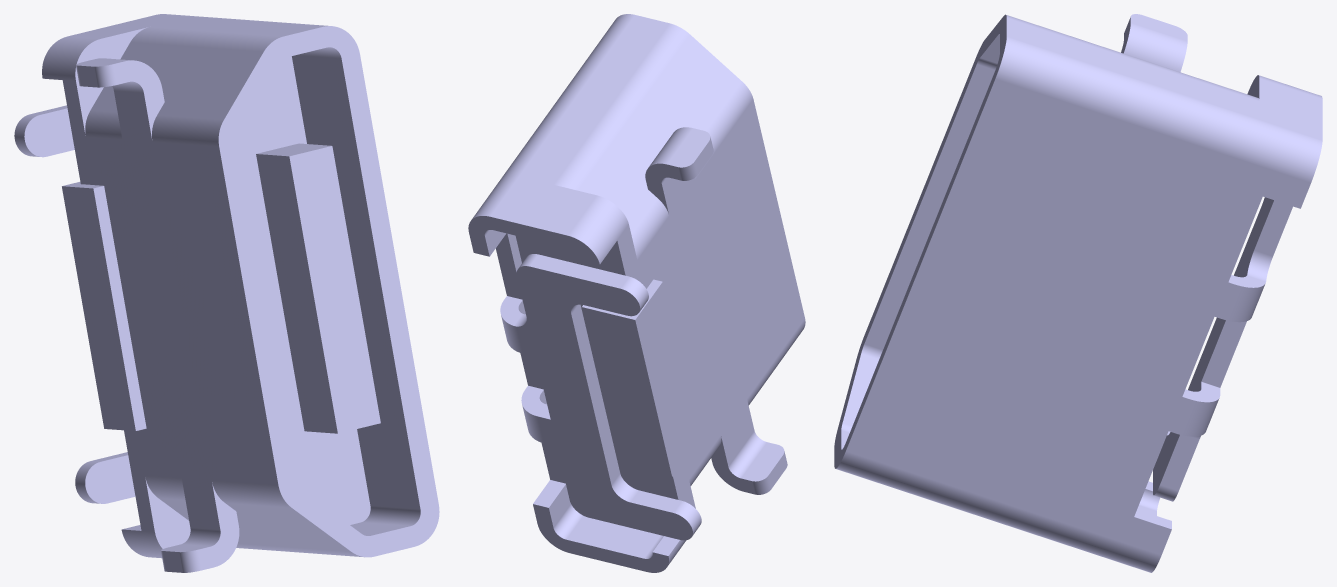
File: EBoxNewAsm_stp_1_IMC413_1_stp_1_IMC413_1_36_stp_1_solid1.obj
The picture shows the model from 3 angles, left to right: view 1: azimuth 30°, elevation 25°; view 2: azimuth 150°, elevation 25°; view 3: azimuth 270°, elevation 25°; orthographic projection. The views are drawn at different scales.
Parts seen in each view (by area): view 1: mesh7716, mesh7670, mesh7664, mesh7657, mesh7652, mesh7654, mesh7714, mesh7683, mesh7753, mesh7688, mesh7715, mesh7674 (+14 smaller); view 2: mesh7716, mesh7756, mesh7683, mesh7674, mesh7711, mesh7714, mesh7673, mesh7672, mesh7709, mesh7702, mesh7676, mesh7704 (+23 smaller); view 3: mesh7757, mesh7672, mesh7674, mesh7671, mesh7658, mesh7670, mesh7753, mesh7685, mesh7751, mesh7737, mesh7749, mesh7668 (+4 smaller).
Boxes of the visible parts, <box> form: mesh7716: <box>62,80,278,531</box>; mesh7670: <box>218,26,439,557</box>; mesh7664: <box>292,55,420,509</box>; mesh7657: <box>237,56,370,524</box>; mesh7652: <box>289,146,380,433</box>; mesh7654: <box>256,154,337,433</box>; mesh7714: <box>62,186,135,431</box>; mesh7683: <box>91,42,263,119</box>; mesh7753: <box>24,108,135,503</box>; mesh7688: <box>159,498,350,551</box>; mesh7715: <box>93,186,146,430</box>; mesh7674: <box>67,14,322,38</box>; mesh7716: <box>617,99,804,508</box>; mesh7756: <box>516,266,692,540</box>; mesh7683: <box>578,34,741,234</box>; mesh7674: <box>490,15,669,235</box>; mesh7711: <box>582,307,671,476</box>; mesh7714: <box>635,282,699,476</box>; mesh7673: <box>554,23,689,190</box>; mesh7672: <box>472,14,634,219</box>; mesh7709: <box>515,235,662,495</box>; mesh7702: <box>566,516,660,558</box>; mesh7676: <box>568,195,628,263</box>; mesh7704: <box>533,504,668,572</box>; mesh7757: <box>846,79,1310,554</box>; mesh7672: <box>995,36,1322,182</box>; mesh7674: <box>1006,18,1322,140</box>; mesh7671: <box>836,451,1161,572</box>; mesh7658: <box>864,64,995,349</box>; mesh7670: <box>834,14,1006,468</box>; mesh7753: <box>1153,197,1273,495</box>; mesh7685: <box>1123,22,1187,72</box>; mesh7751: <box>1201,320,1246,387</box>; mesh7737: <box>1160,435,1199,490</box>; mesh7749: <box>1254,200,1292,256</box>; mesh7668: <box>842,353,878,425</box>.
Size of the model in its own units: 0.00305 by 0.00876 by 0.00726.
